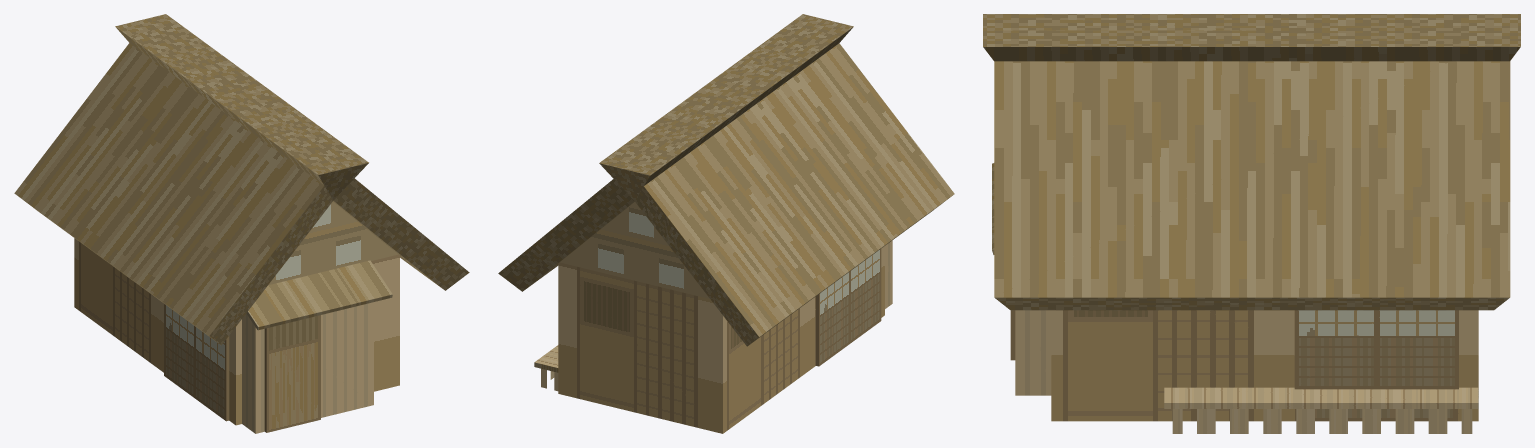
File: 0106_Farmhouse.glb
The picture shows the model from 3 angles, left to right: view 1: azimuth 30°, elevation 25°; view 2: azimuth 150°, elevation 25°; view 3: azimuth 270°, elevation 25°; orthographic projection. The views are drawn at different scales.
Parts seen in each view (by area): view 1: part_0; view 2: part_0; view 3: part_0.
Boxes of the visible parts, left/top/right/bottom form: part_0: left=14, top=14, right=469, bottom=433; part_0: left=498, top=14, right=954, bottom=433; part_0: left=983, top=14, right=1520, bottom=433.
Size of the model in its own units: 4.64 by 4.35 by 6.27.
Materials: 1 (1 with a texture image).
